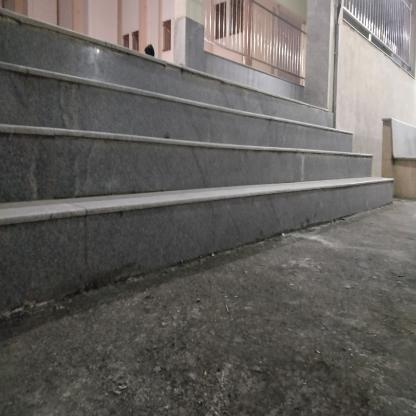stairs: (5, 92, 326, 255)
